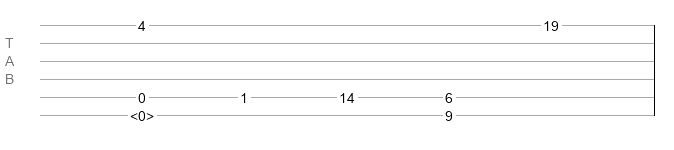0: (138, 90, 146, 100)
1: (240, 90, 248, 100)
14: (339, 90, 355, 100)
19: (543, 18, 559, 28)
4: (138, 18, 146, 28)
6: (445, 90, 453, 100)
9: (445, 108, 453, 118)
harmonic: (130, 108, 154, 118)
